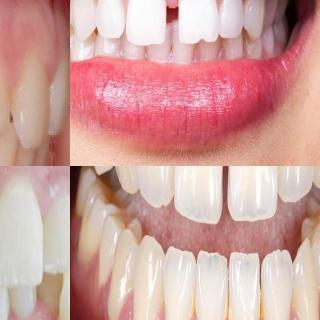calculus: (218, 284, 240, 320), (186, 292, 210, 320), (254, 287, 271, 320)
maligned: (0, 171, 44, 285), (34, 260, 68, 317)
